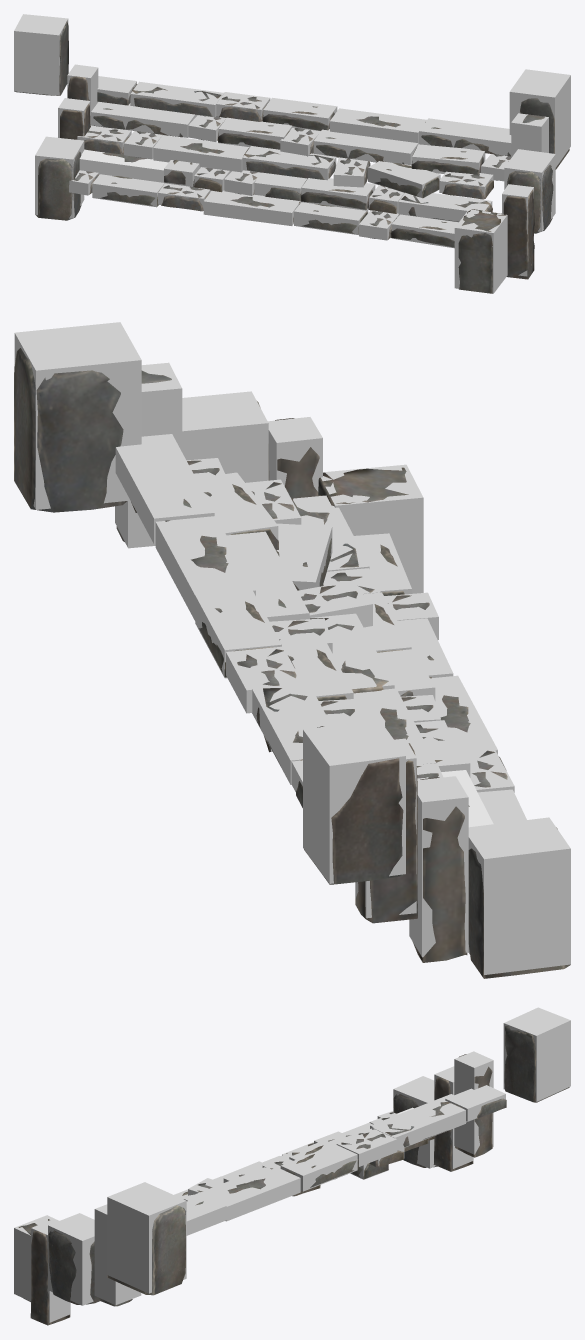
The model's file is Steps_A6.fbx.
3 renders of one model, top to bottom at view 1: azimuth 30°, elevation 25°; view 2: azimuth 150°, elevation 25°; view 3: azimuth 270°, elevation 25°, orthographic. The views are drawn at different scales.
Visible parts, largest first — view 1: Cube_25, Cube_4, Rock_A13__1_, Rock_A15__1_, Rock_A17__3_, Cube_1, Cube_2, Cube_3, Cube_13, Cube_15, Cube_14, Cube_12 (+59 smaller); view 2: Rock_A15__2_, Cube_6, Cube_4, Cube_25, Rock_A14__1_, Cube_5, Cube_14, Rock_A17__2_, Cube_12, Cube_3, Cube_7, Cube_27 (+30 smaller); view 3: Cube_4, Cube_25, Rock_A15__2_, Cube_3, Cube_5, Cube_27, Rock_A14__1_, Cube_8, Rock_A15__3_, Cube_29, Cube_19, Rock_A17__3_ (+12 smaller).
Part boxes in pixels (x1,y1,x2,y2): Cube_25: [14, 14, 68, 95]; Cube_4: [509, 69, 570, 167]; Rock_A13__1_: [458, 209, 506, 293]; Rock_A15__1_: [36, 151, 81, 220]; Rock_A17__3_: [503, 189, 534, 279]; Cube_1: [203, 190, 301, 225]; Cube_2: [153, 135, 249, 172]; Cube_3: [330, 108, 426, 144]; Cube_13: [91, 102, 197, 137]; Cube_15: [313, 129, 418, 165]; Cube_14: [419, 118, 511, 155]; Cube_12: [454, 209, 507, 293]; Rock_A15__2_: [14, 348, 126, 512]; Cube_6: [468, 817, 570, 974]; Cube_4: [14, 322, 141, 509]; Cube_25: [303, 719, 405, 883]; Rock_A14__1_: [304, 726, 403, 884]; Cube_5: [182, 391, 268, 482]; Cube_14: [115, 434, 214, 544]; Rock_A17__2_: [413, 777, 467, 962]; Cube_12: [321, 464, 423, 593]; Cube_3: [155, 516, 255, 620]; Cube_7: [409, 776, 468, 957]; Cube_27: [252, 683, 331, 784]; Cube_4: [107, 1182, 186, 1293]; Cube_25: [503, 1007, 570, 1101]; Rock_A15__2_: [107, 1205, 185, 1295]; Cube_3: [205, 1167, 300, 1221]; Cube_5: [48, 1213, 94, 1305]; Cube_27: [372, 1100, 465, 1150]; Rock_A14__1_: [504, 1026, 569, 1102]; Cube_8: [454, 1051, 493, 1154]; Rock_A15__3_: [48, 1230, 99, 1304]; Cube_29: [94, 1204, 141, 1305]; Cube_19: [280, 1144, 357, 1191]; Rock_A17__3_: [30, 1231, 70, 1325].
Bounding box in the file's own units: 1268 × 434 × 1364.
2 materials, 1 textured.
